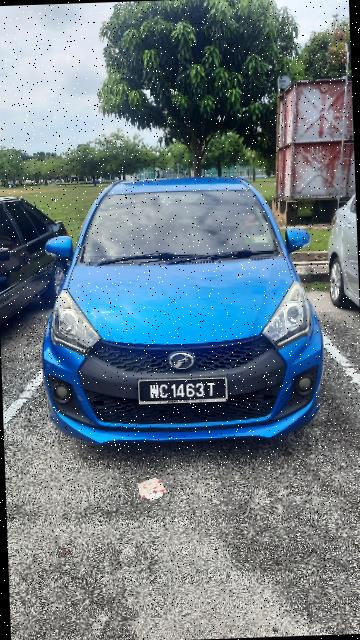License_Plate: (137, 374, 234, 412)
car: (28, 170, 332, 461)
